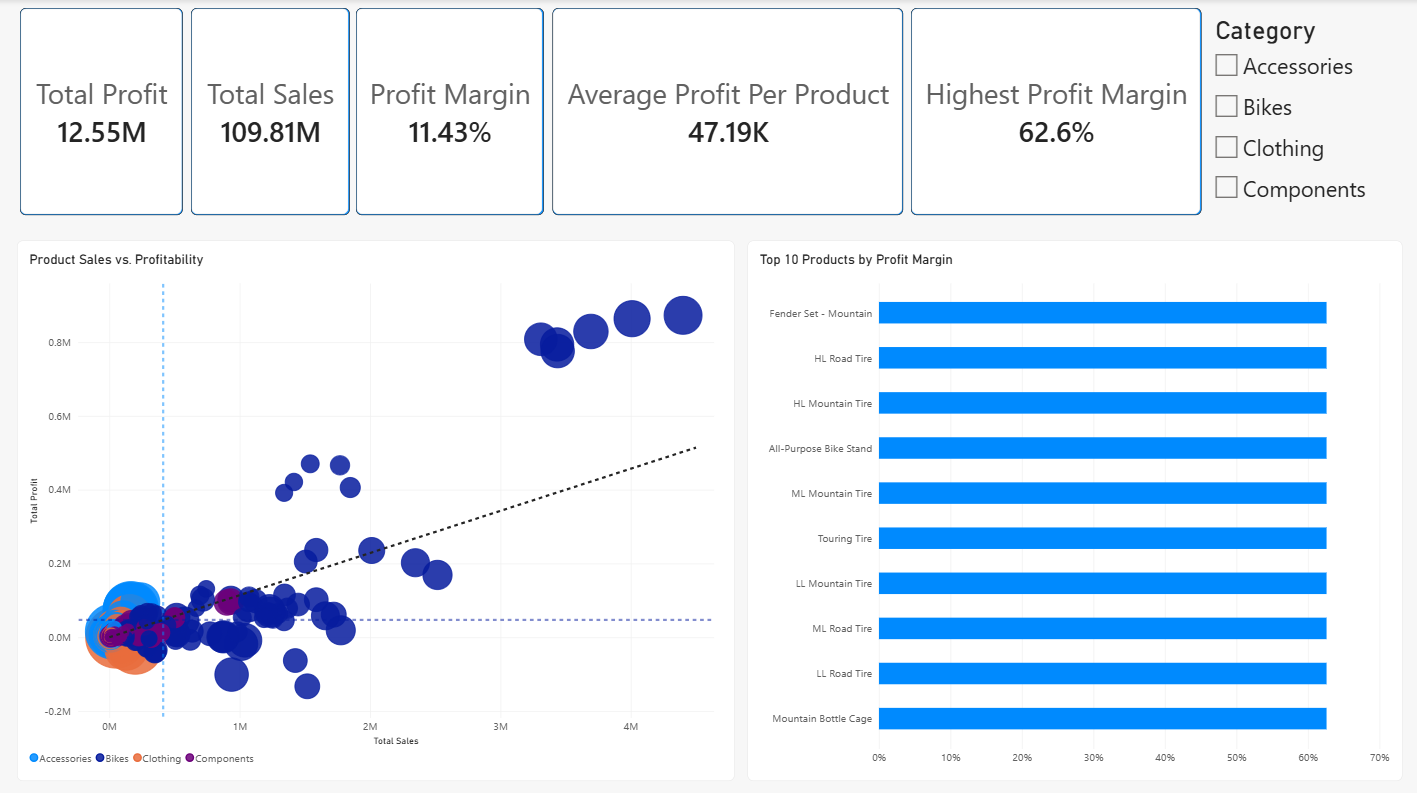

What the dashboard file says about the page in this screenshot:
{"tool":"powerbi","page":{"name":"Product Profitability","canvas":[1920,1080],"ordinal":2},"visuals":[{"type":"scatterChart","title":"Product Sales vs. Profitability","fields":{"Category":["Product.Product"],"Series":["Product.Category"],"Size":["Customer.Total Units Sold"],"X":["Sales.Total Sales"],"Y":["Sales.Total Profit"]},"box":[23.3,326.8,970.2,730.9],"z":0},{"type":"slicer","fields":{"Values":["Product.Category"]},"box":[1635.5,21.9,262,280],"z":1000},{"type":"clusteredBarChart","title":"Top 10 Products by  Profit Margin","fields":{"Category":["Product.Product"],"Y":["Sales.Profit Margin"]},"box":[1012.5,326.8,885.6,730.9],"z":2000},{"type":"cardVisual","fields":{"Data":["Sales.Total Profit"]},"box":[27.7,13.1,220.3,280.1],"z":3000},{"type":"cardVisual","fields":{"Data":["Sales.Total Sales"]},"box":[258.5,13.1,214.5,280.1],"z":4000},{"type":"cardVisual","fields":{"Data":["Sales.Profit Margin"]},"box":[483.5,13.1,253.9,280.1],"z":5000},{"type":"cardVisual","fields":{"Data":["Customer.Average Profit Per Product"]},"box":[747.9,13.1,474.2,280.1],"z":6000},{"type":"cardVisual","fields":{"Data":["Customer.Highest Profit Margin"]},"box":[1232.5,13.1,392.5,280.1],"z":7000}]}

Visuals, with their boxes in screenshot pixels (x1, y1, x2, y2), scaled from the page's 1920x1080 canvas onto the 1417x793 screenshot:
"Product Sales vs. Profitability" scatterChart: (left=17, top=240, right=733, bottom=777)
slicer - Product.Category: (left=1207, top=16, right=1400, bottom=222)
"Top 10 Products by  Profit Margin" clusteredBarChart: (left=747, top=240, right=1401, bottom=777)
cardVisual - Sales.Total Profit: (left=20, top=10, right=183, bottom=215)
cardVisual - Sales.Total Sales: (left=191, top=10, right=349, bottom=215)
cardVisual - Sales.Profit Margin: (left=357, top=10, right=544, bottom=215)
cardVisual - Customer.Average Profit Per Product: (left=552, top=10, right=902, bottom=215)
cardVisual - Customer.Highest Profit Margin: (left=910, top=10, right=1199, bottom=215)
